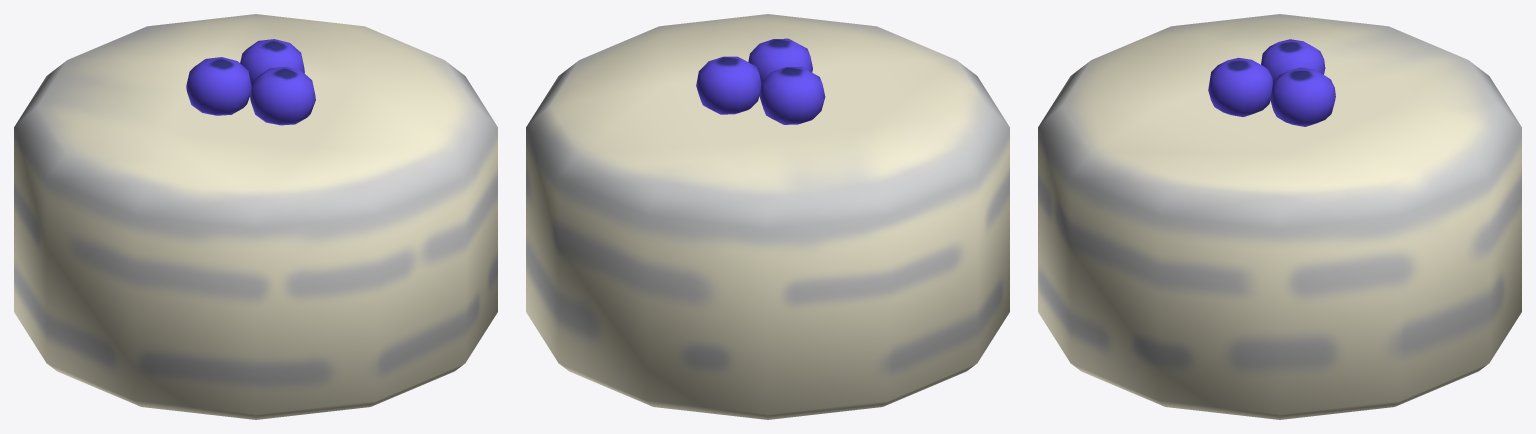
File: Bakery_Cake_02.fbx
3 renders of one model, left to right at view 1: azimuth 30°, elevation 25°; view 2: azimuth 150°, elevation 25°; view 3: azimuth 270°, elevation 25°, orthographic.
Visible parts, largest first — view 1: Bakery_Cake_02; view 2: Bakery_Cake_02; view 3: Bakery_Cake_02.
Part boxes in pixels (box(x1,y1,x2,y2)): Bakery_Cake_02: box(14, 14, 497, 419); Bakery_Cake_02: box(526, 14, 1009, 419); Bakery_Cake_02: box(1038, 14, 1521, 419).
Bounding box in the file's own units: 39.71 × 23.89 × 39.71.
